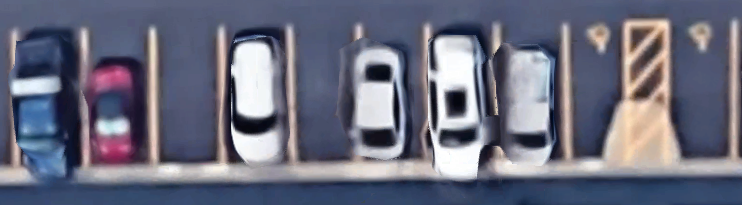Occupied: (13, 27, 85, 168), (496, 24, 569, 161), (221, 26, 292, 163), (426, 24, 497, 160), (85, 28, 154, 163), (357, 25, 427, 158)
Vacant: (152, 28, 223, 165), (665, 21, 734, 158), (290, 26, 357, 161), (566, 22, 626, 162)
